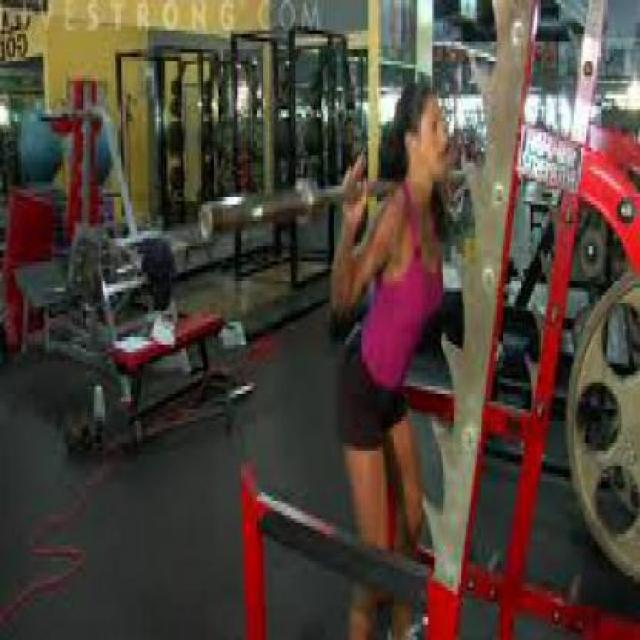Barbell: (193, 189, 221, 251)
